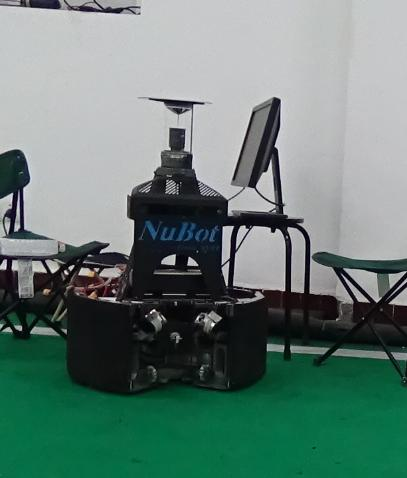robot: (65, 86, 273, 395)
